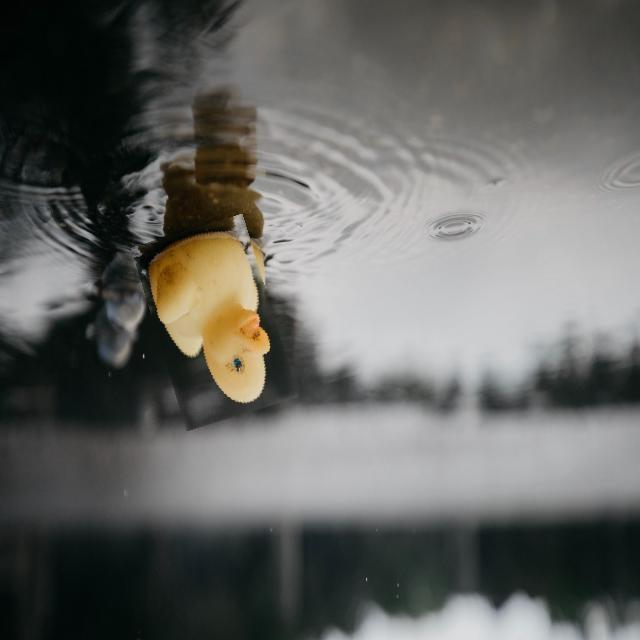rubber-duck: (147, 231, 290, 426)
